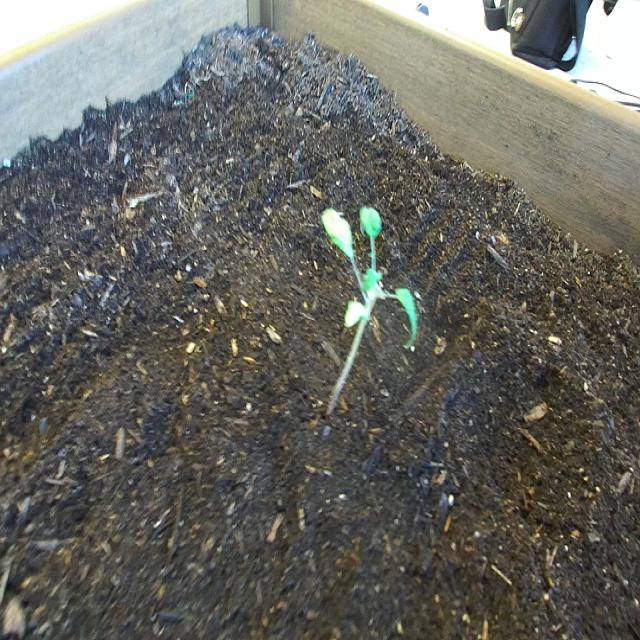Healthy: (316, 198, 419, 435)
